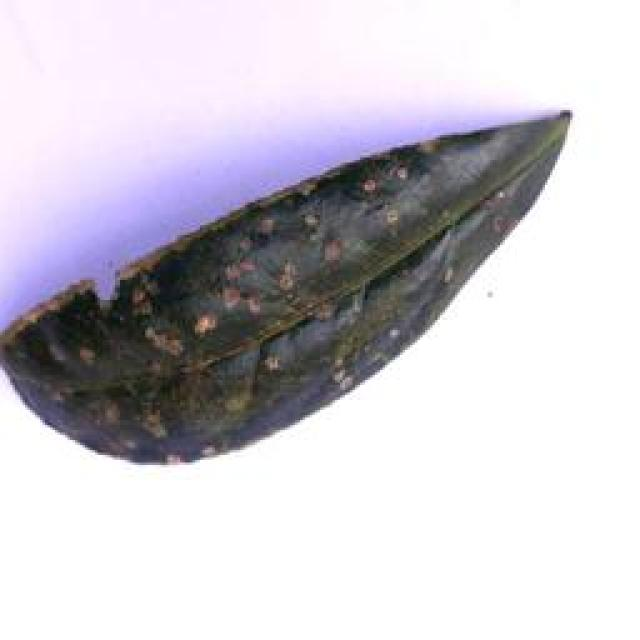Algal Leaf Spot: (6, 100, 576, 474)
